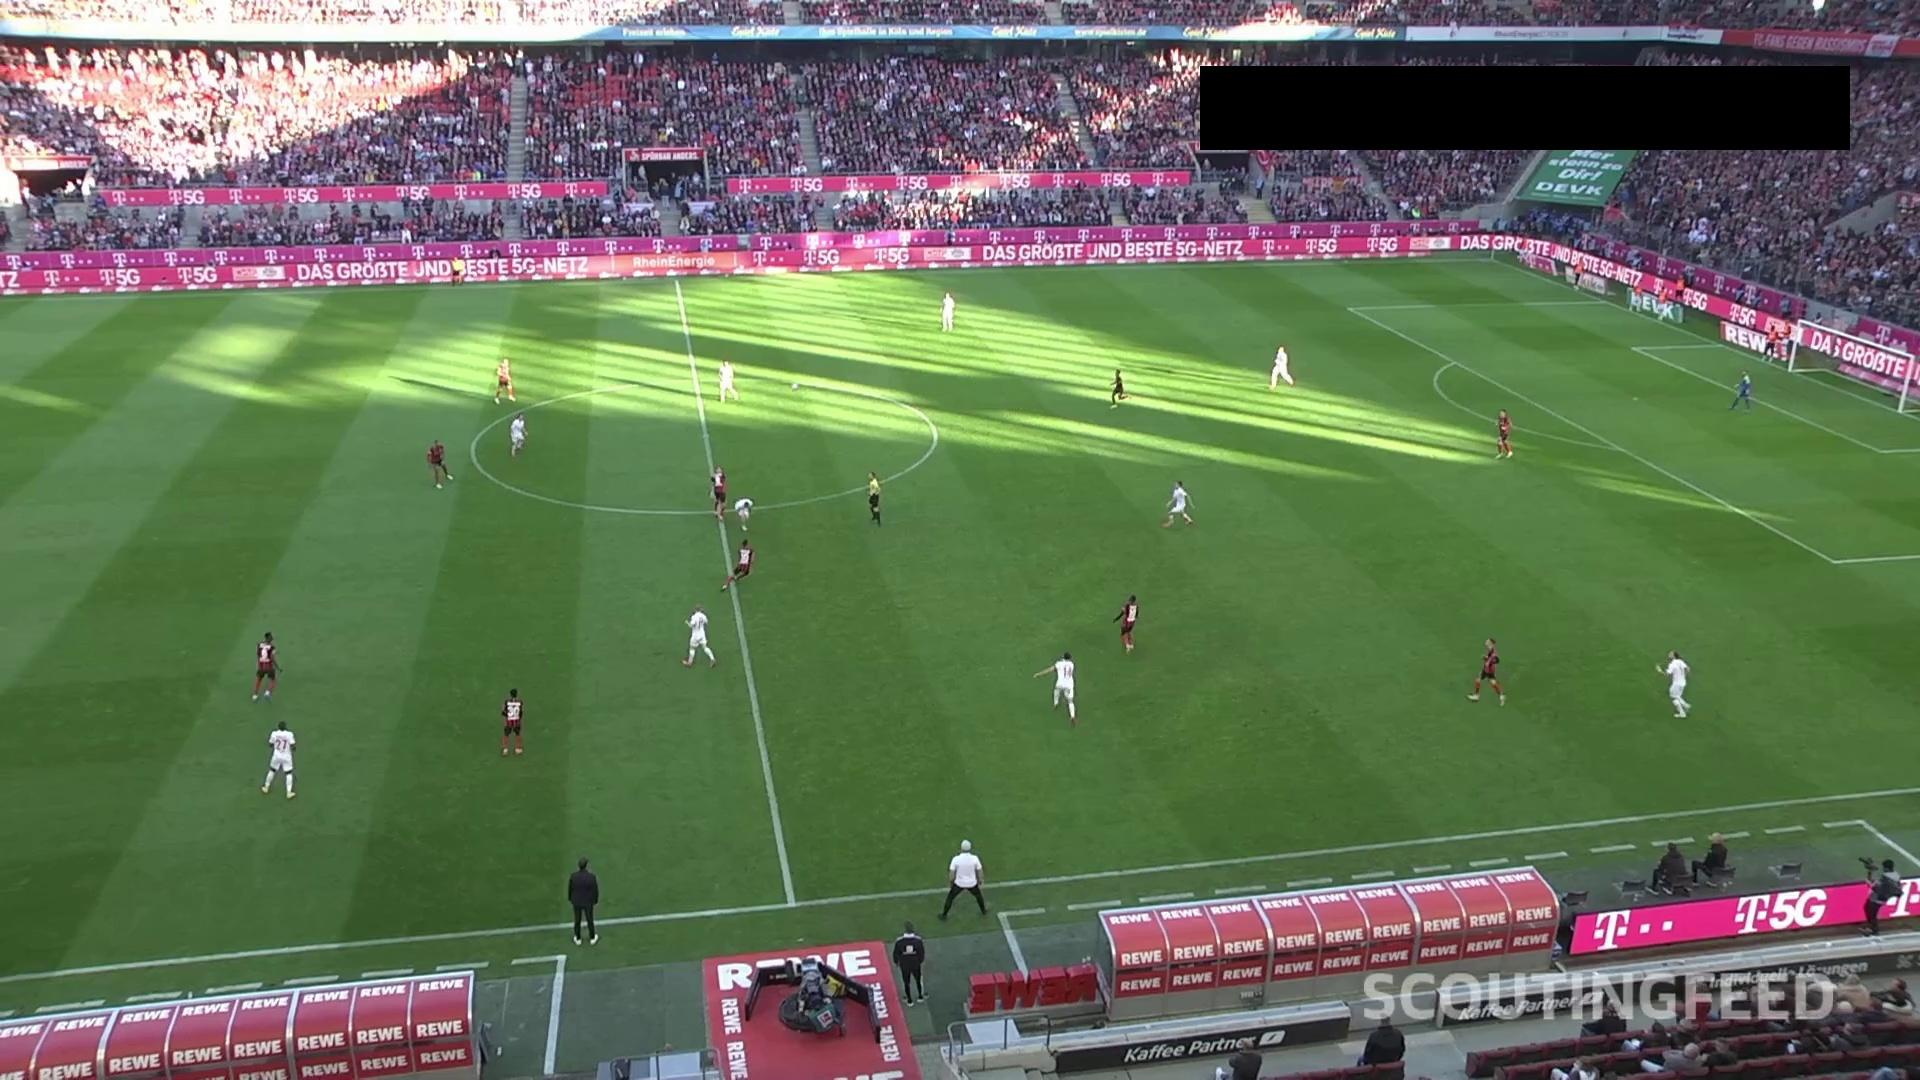Location-of-ball: (787, 377, 812, 398)
